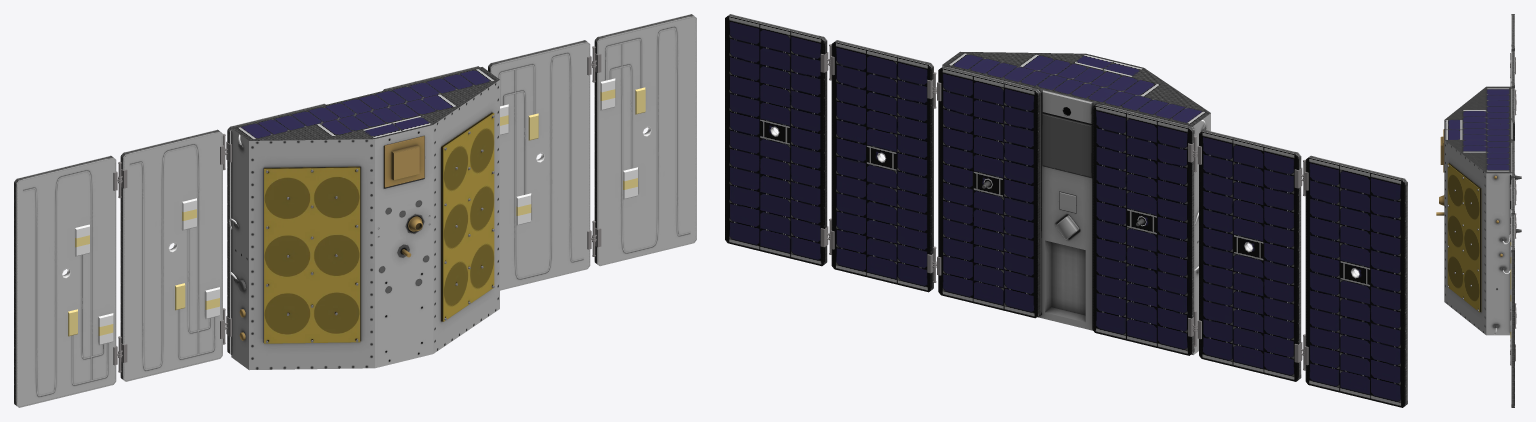
File: CYGNSS.gltf
The picture shows the model from 3 angles, left to right: view 1: azimuth 30°, elevation 25°; view 2: azimuth 150°, elevation 25°; view 3: azimuth 270°, elevation 25°; orthographic projection. The views are drawn at different scales.
Parts seen in each view (by area): view 1: BUS, array_right3, array_left2, array_right1, array_left1, array_left2_instruments, array_right2_instruments, array_right1_instruments, array_left1_instruments; view 2: BUS, array_right3, array_left2, array_left1, array_right1; view 3: BUS, array_left2, array_left1, array_right1, array_right3, array_left2_instruments, hinges_left2_left, hinges_left1_left.
Part boxes in pixels (<box>): BUS: <box>227,66,499,370</box>; array_right3: <box>14,155,116,407</box>; array_left2: <box>594,14,696,266</box>; array_right1: <box>120,129,222,381</box>; array_left1: <box>488,40,590,290</box>; array_left2_instruments: <box>600,78,645,199</box>; array_right2_instruments: <box>68,224,113,345</box>; array_right1_instruments: <box>175,198,219,319</box>; array_left1_instruments: <box>500,104,538,225</box>; BUS: <box>938,51,1210,355</box>; array_right3: <box>1305,155,1407,407</box>; array_left2: <box>725,14,827,266</box>; array_left1: <box>831,40,933,292</box>; array_right1: <box>1199,129,1301,381</box>; BUS: <box>1436,86,1521,335</box>; array_left2: <box>1511,214,1514,407</box>; array_left1: <box>1511,177,1514,214</box>; array_right1: <box>1511,50,1514,87</box>; array_right3: <box>1511,14,1514,50</box>; array_left2_instruments: <box>1510,245,1511,344</box>; hinges_left2_left: <box>1510,216,1515,365</box>; hinges_left1_left: <box>1510,187,1516,324</box>.
Size of the model in its own units: 1.59 by 0.5121 by 0.2442.
5 materials, 1 textured.
